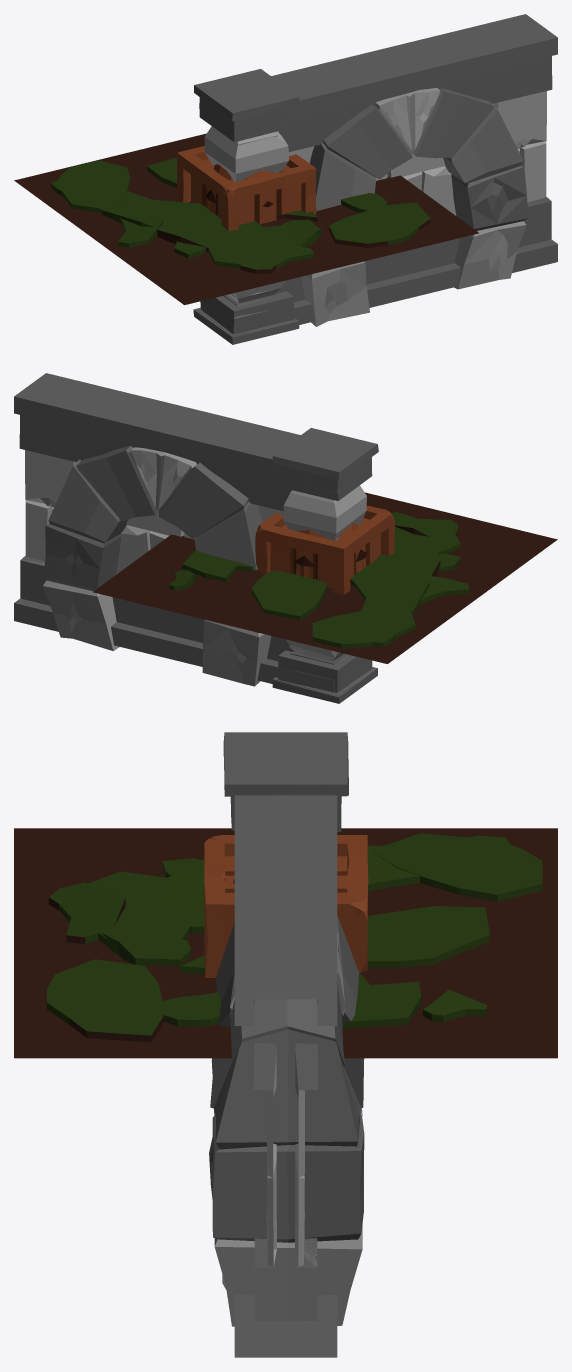
The model's file is DungeonsSource.fbx.
The picture shows the model from 3 angles, top to bottom: view 1: azimuth 30°, elevation 25°; view 2: azimuth 150°, elevation 25°; view 3: azimuth 270°, elevation 25°; orthographic projection. The views are drawn at different scales.
Parts seen in each view (by area): view 1: Non_Pillared_Doorway, Pillared_DoorWay, Floor_Pane_01, Pillared_Wall, Pillared_Wall_For_Doorway, Crate, Floor_Pane_02, Floor_Pane_04, Floor_Pane_05, Barrel; view 2: Pillared_Wall, Non_Pillared_Doorway, Pillared_DoorWay, Floor_Pane_01, Floor_Pane_02, Crate, Floor_Pane_04, Floor_Pane_05, Barrel, Pillared_Wall_For_Doorway; view 3: Non_Pillared_Doorway, Floor_Pane_01, Pillared_DoorWay, Pillared_Wall, Floor_Pane_02, Crate, Floor_Pane_04, Floor_Pane_05, Pillared_Wall_For_Doorway.
Boxes of the visible parts, x1,y1,x2,y2 form: Non_Pillared_Doorway: (271, 14, 557, 314); Pillared_DoorWay: (193, 15, 557, 344); Floor_Pane_01: (14, 133, 478, 304); Pillared_Wall: (194, 16, 557, 344); Pillared_Wall_For_Doorway: (275, 131, 557, 324); Crate: (177, 146, 316, 231); Floor_Pane_02: (101, 157, 307, 268); Floor_Pane_04: (58, 160, 163, 247); Floor_Pane_05: (51, 179, 387, 258); Barrel: (206, 164, 278, 222); Pillared_Wall: (14, 373, 378, 703); Non_Pillared_Doorway: (15, 373, 300, 686); Pillared_DoorWay: (14, 373, 377, 703); Floor_Pane_01: (93, 492, 557, 663); Floor_Pane_02: (182, 528, 460, 620); Crate: (255, 505, 394, 594); Floor_Pane_04: (312, 574, 469, 648); Floor_Pane_05: (169, 526, 460, 647); Barrel: (293, 523, 367, 577); Pillared_Wall_For_Doorway: (18, 530, 202, 647); Non_Pillared_Doorway: (209, 795, 364, 1357); Floor_Pane_01: (14, 828, 557, 1058); Pillared_DoorWay: (209, 732, 361, 1357); Pillared_Wall: (223, 732, 348, 1357); Floor_Pane_02: (72, 845, 489, 1028); Crate: (204, 835, 368, 977); Floor_Pane_04: (372, 833, 542, 901); Floor_Pane_05: (101, 835, 510, 1026); Pillared_Wall_For_Doorway: (235, 1238, 336, 1357).
Size of the model in its own units: 6.01 by 3.07 by 4.
